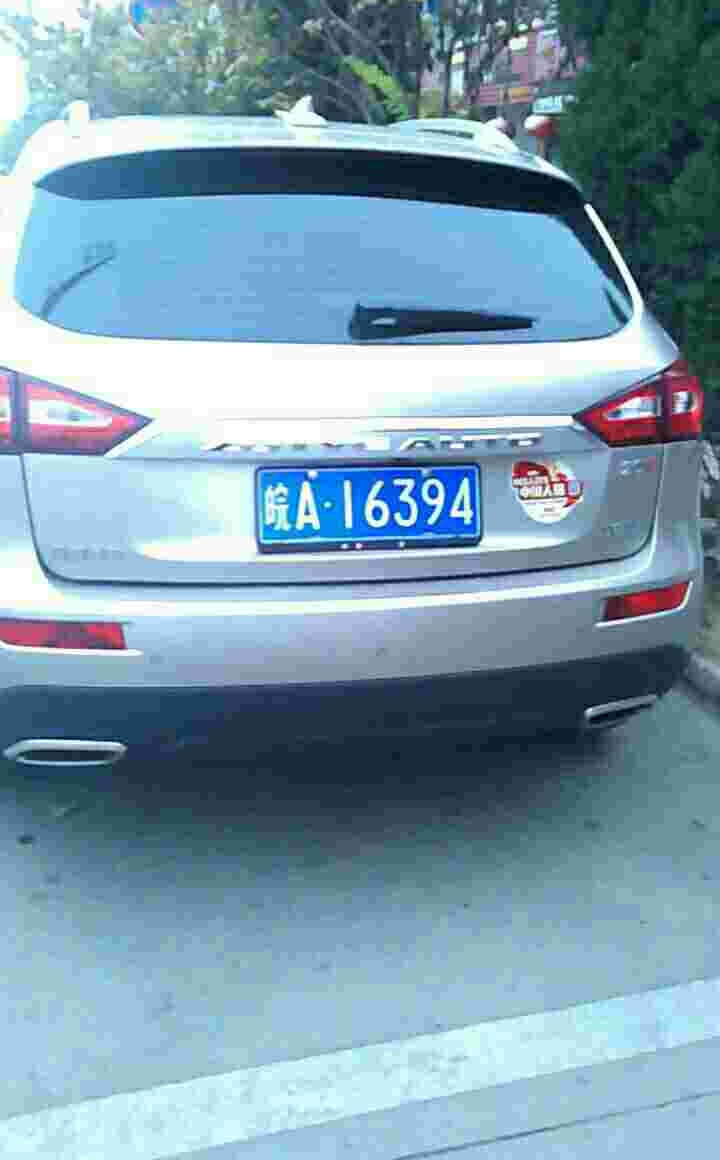license_plate: (266, 465, 472, 545)
